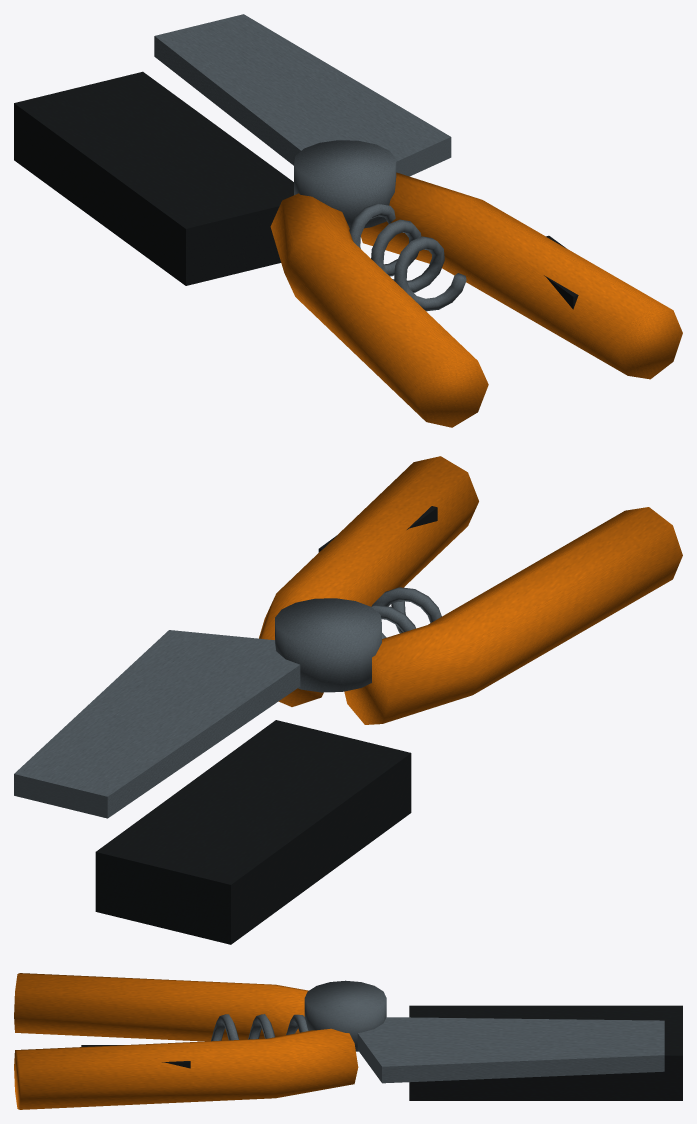
Rendered from AnvilPruners.gltf.
3 renders of one model, top to bottom at view 1: azimuth 30°, elevation 25°; view 2: azimuth 150°, elevation 25°; view 3: azimuth 270°, elevation 25°, orthographic. The views are drawn at different scales.
Visible parts, largest first — view 1: AnvilPruners__Body; view 2: AnvilPruners__Body; view 3: AnvilPruners__Body.
Boxes of the visible parts, x1=… form: AnvilPruners__Body: x1=14, y1=14, x2=682, y2=427; AnvilPruners__Body: x1=14, y1=456, x2=682, y2=944; AnvilPruners__Body: x1=14, y1=973, x2=682, y2=1109.
Size of the model in its own units: 0.0755 by 0.0336 by 0.2054.
Materials: 1 (1 with a texture image).
